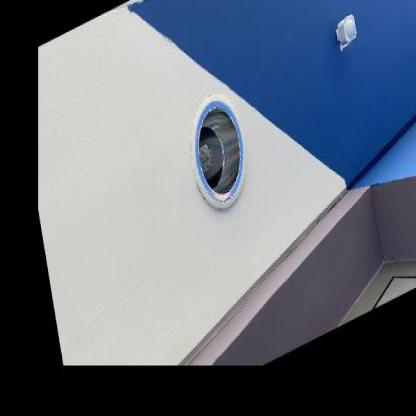light_off: (170, 60, 256, 236)
